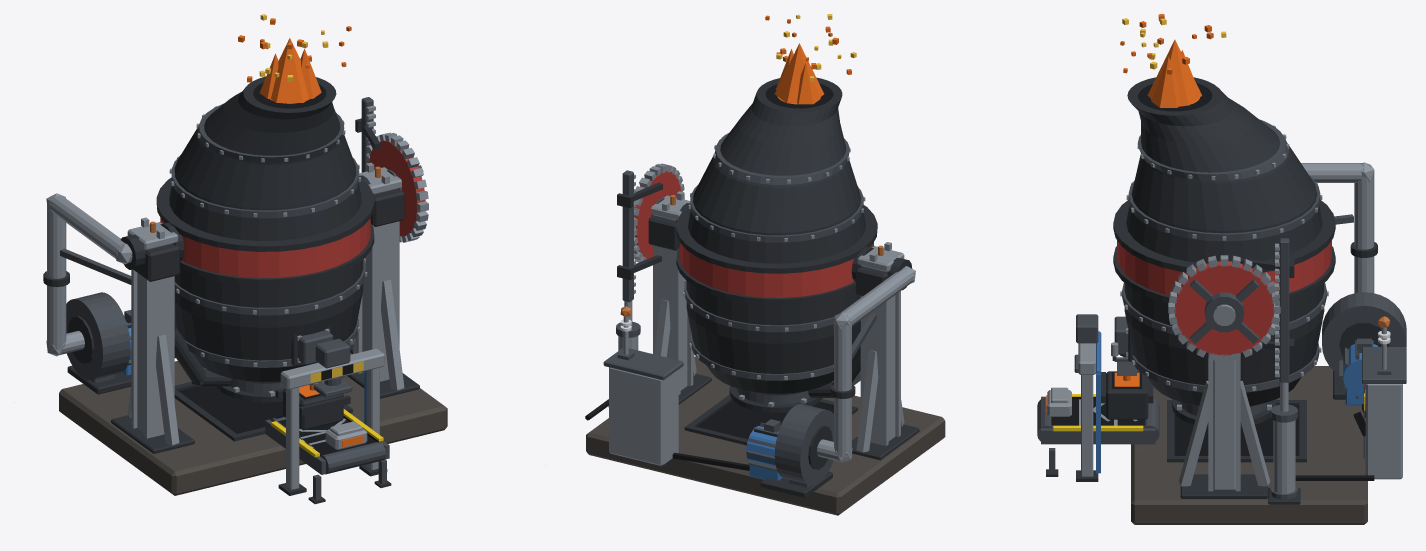
Rendered from convertisseur_t2.glb.
The picture shows the model from 3 angles, left to right: view 1: azimuth 30°, elevation 25°; view 2: azimuth 150°, elevation 25°; view 3: azimuth 270°, elevation 25°; orthographic projection. The views are drawn at different scales.
Parts seen in each view (by area): view 1: cornue_corps.002, pieces_acier.004, socle.004, pieces_fonte.007, pieces_acier_sombre.007, cornue_ceinture.002, soufflante_volute.002, cornue_ceinture_bord_0.002, fosse.002, cornue_acier.002, cornue_rouge.002, cornue_cercle_2.004 (+11 smaller); view 2: cornue_corps.002, pieces_acier.004, socle.004, armoire.002, pieces_fonte.007, cornue_ceinture.002, soufflante_volute.002, cornue_ceinture_bord_0.002, pieces_acier_sombre.007, cornue_levre.002, fosse.002, cornue_acier.002 (+16 smaller); view 3: cornue_corps.002, socle.004, pieces_acier.004, pieces_acier_sombre.007, cornue_rouge.002, pieces_fonte.007, cornue_acier.002, armoire.002, soufflante_volute.002, cornue_ceinture.002, cornue_ceinture_bord_0.002, cornue_levre.002 (+20 smaller).
Part boxes in pixels (x1,y1,x2,y2): cornue_corps.002: (169,82,363,383); pieces_acier.004: (46,105,404,489); socle.004: (59,340,447,495); pieces_fonte.007: (43,118,419,504); pieces_acier_sombre.007: (60,97,389,500); cornue_ceinture.002: (160,218,370,277); soufflante_volute.002: (66,292,130,380); cornue_ceinture_bord_0.002: (156,177,374,251); fosse.002: (178,386,282,433); cornue_acier.002: (169,106,428,396); cornue_rouge.002: (368,140,425,236); cornue_cercle_2.004: (171,155,359,218); cornue_corps.002: (686,88,865,395); pieces_acier.004: (618,174,915,462); socle.004: (586,356,945,515); armoire.002: (609,367,678,465); pieces_fonte.007: (608,182,919,498); cornue_ceinture.002: (680,242,873,297); soufflante_volute.002: (774,403,833,484); cornue_ceinture_bord_0.002: (676,205,877,273); pieces_acier_sombre.007: (616,170,876,487); cornue_levre.002: (751,77,842,126); fosse.002: (697,400,833,439); cornue_acier.002: (634,137,865,407); cornue_corps.002: (1124,83,1324,406); socle.004: (1131,366,1367,524); pieces_acier.004: (1078,162,1386,493); pieces_acier_sombre.007: (1037,214,1391,499); cornue_rouge.002: (1174,261,1274,355); pieces_fonte.007: (1046,242,1377,504); cornue_acier.002: (1120,125,1328,410); armoire.002: (1365,384,1402,479); soufflante_volute.002: (1322,292,1406,374); cornue_ceinture.002: (1117,240,1331,295); cornue_ceinture_bord_0.002: (1113,200,1335,272); cornue_levre.002: (1127,77,1233,126).
Bounding box in the file's own units: 1.5 × 1.92 × 1.5.
